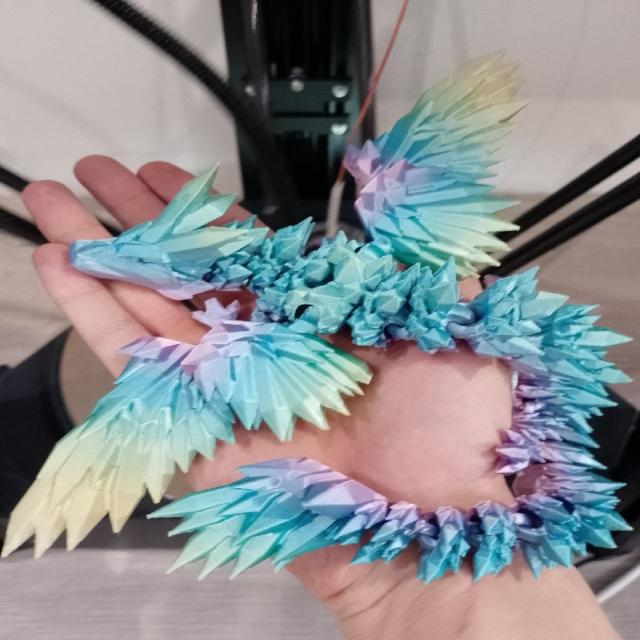Without deffect: (16, 51, 639, 615)
